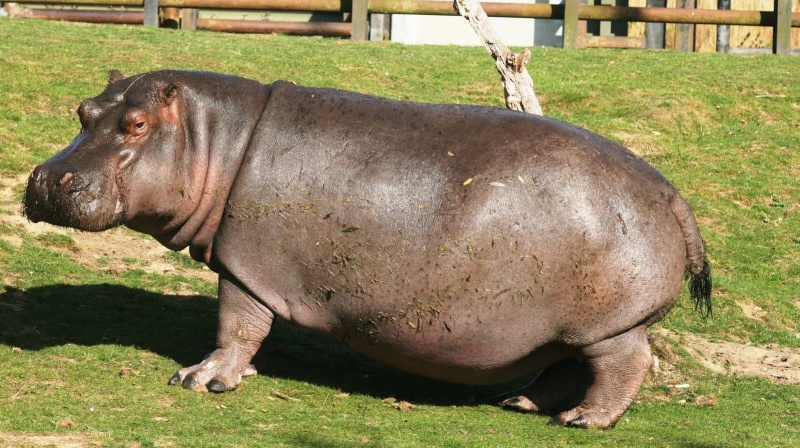hipopotamo: (24, 65, 715, 436)
